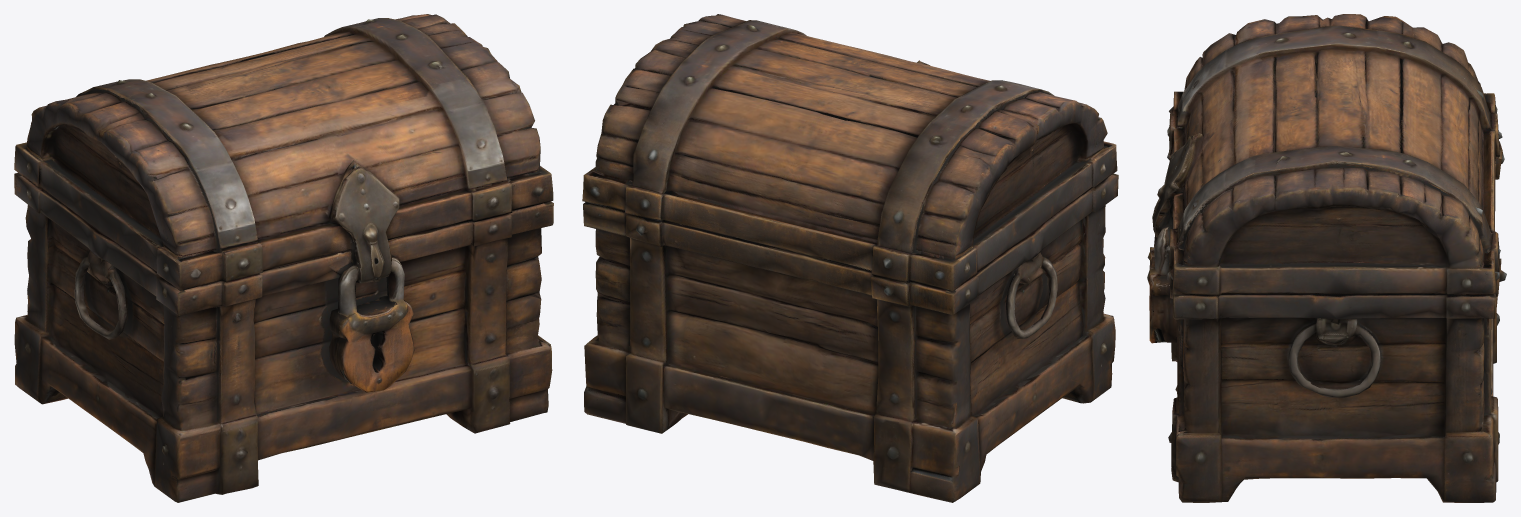
File: chest.glb
3 renders of one model, left to right at view 1: azimuth 30°, elevation 25°; view 2: azimuth 150°, elevation 25°; view 3: azimuth 270°, elevation 25°, orthographic. The views are drawn at different scales.
Parts seen in each view (by area): view 1: Mesh_0.001; view 2: Mesh_0.001; view 3: Mesh_0.001.
Part boxes in pixels (bbox=[...]): Mesh_0.001: bbox=[14, 14, 553, 502]; Mesh_0.001: bbox=[582, 14, 1118, 502]; Mesh_0.001: bbox=[1147, 14, 1506, 502].
Bounding box in the file's own units: 0.3581 × 0.3 × 0.3027.
1 material, 1 textured.
